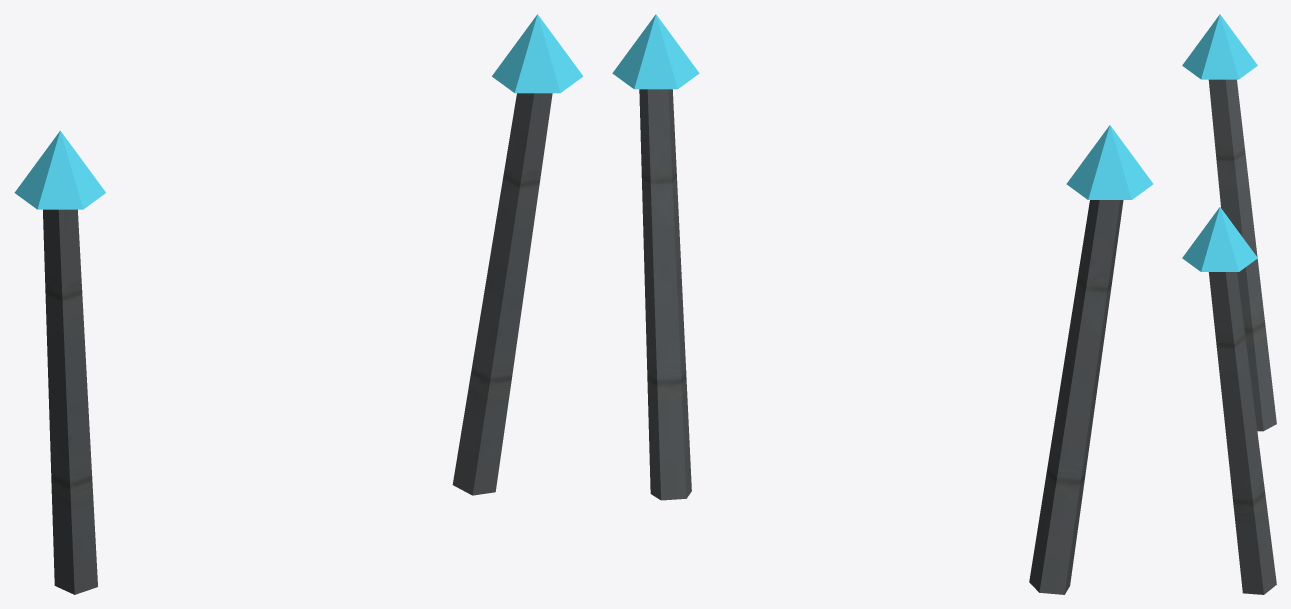
Rendered from acc_antenna.glb.
3 views of the same model, side by side, from view 1: azimuth 30°, elevation 25°; view 2: azimuth 150°, elevation 25°; view 3: azimuth 270°, elevation 25° (orthographic). The views are drawn at different scales.
Visible parts, largest first — view 1: acc_antenna; view 2: acc_antenna; view 3: acc_antenna.
Part boxes in pixels (x1=…): acc_antenna: x1=14, y1=14, x2=583, y2=594; acc_antenna: x1=612, y1=14, x2=1153, y2=594; acc_antenna: x1=1182, y1=14, x2=1276, y2=594.
Bounding box in the file's own units: 0.2746 × 0.2314 × 0.05.
Materials: 2 (2 with a texture image).
